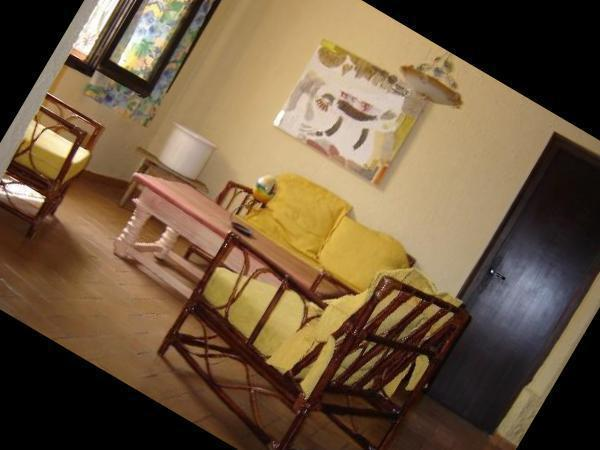Puerta: (414, 135, 600, 434)
